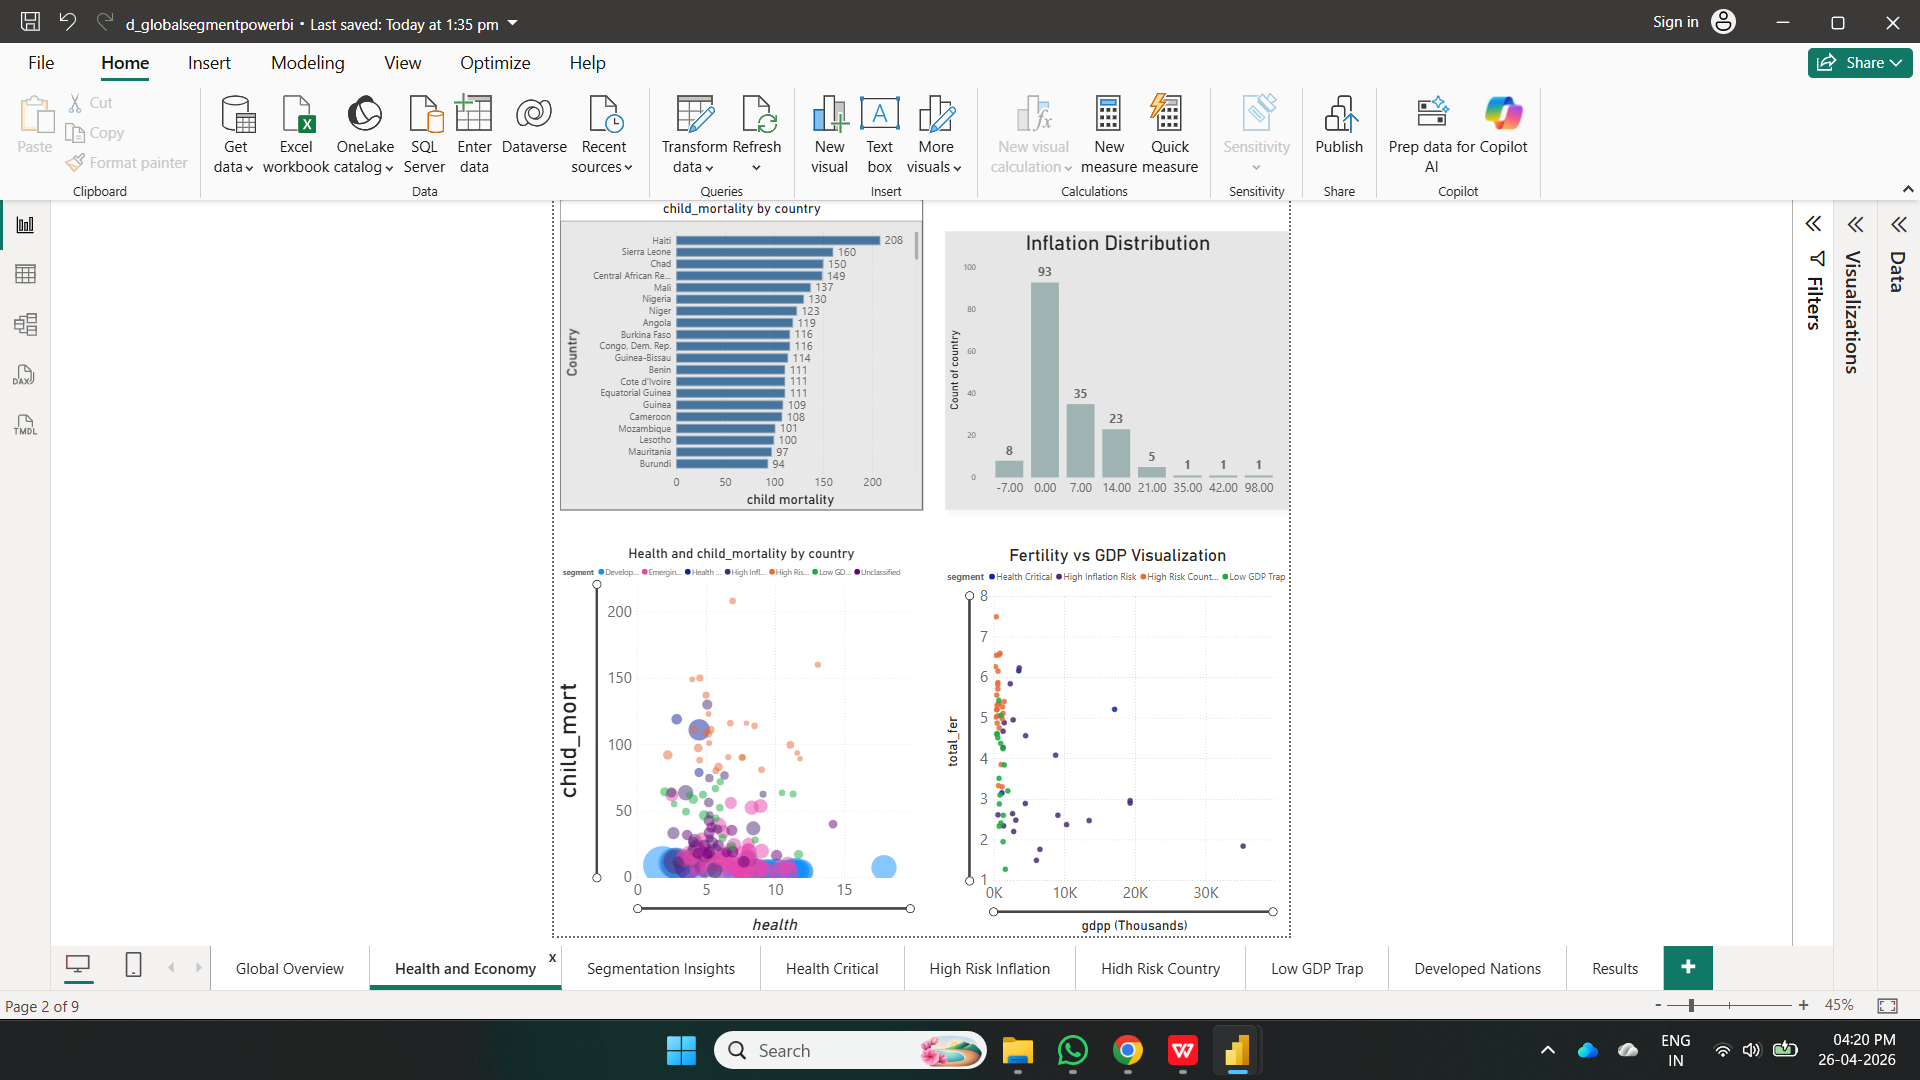

Layout of this report page (visuals, bound fields, positions):
{"tool":"powerbi","page":{"name":"Health and Economy","canvas":[1300,1300],"ordinal":1},"visuals":[{"type":"clusteredBarChart","title":"child_mortality by country","fields":{"Y":["Avg(country_clean.child_mort)"],"Category":["country_clean.country"]},"box":[10,0,640,548],"z":0},{"type":"scatterChart","title":" Health and child_mortality by country","fields":{"X":["country_clean.health"],"Y":["country_clean.child_mort"],"Series":["country_clean.segment"],"Size":["Sum(country_clean.income)"]},"box":[10,610,640,690],"z":1000},{"type":"clusteredColumnChart","title":"Inflation Distribution","fields":{"Y":["CountNonNull(country_clean.country)"],"Category":["country_clean.inflation (bins)"]},"box":[690,56,610,492],"z":2000},{"type":"scatterChart","title":"Fertility vs GDP Visualization","fields":{"Y":["country_clean.total_fer"],"X":["country_clean.gdpp"],"Series":["country_clean.segment"]},"box":[690,610,610,690],"z":3000}]}

Visuals, with their boxes on the page's 1300x1300 design canvas (x1, y1, x2, y2). These are canvas units, not pixel positions in the 1920x1080 screenshot, which may show the page scaled, cropped or inside an application window:
"child_mortality by country" clusteredBarChart: region(10, 0, 650, 548)
" Health and child_mortality by country" scatterChart: region(10, 610, 650, 1300)
"Inflation Distribution" clusteredColumnChart: region(690, 56, 1300, 548)
"Fertility vs GDP Visualization" scatterChart: region(690, 610, 1300, 1300)
